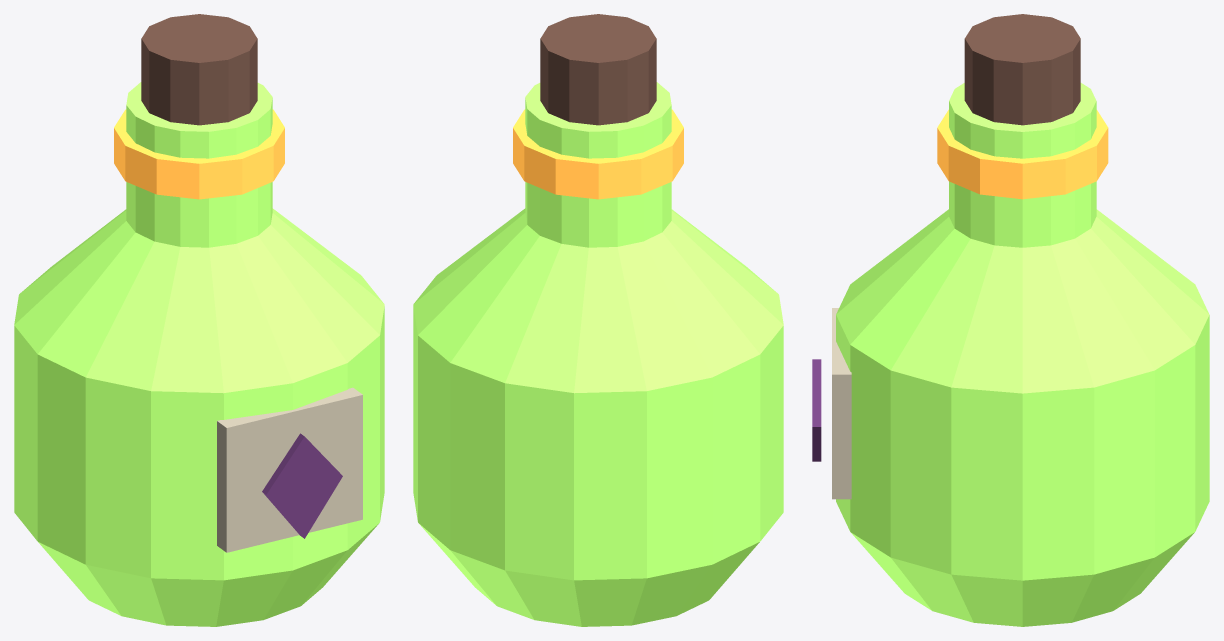
File: moonlit-mischief-potion-bottle-eb5b0b7d__2141.glb
3 views of the same model, side by side, from view 1: azimuth 30°, elevation 25°; view 2: azimuth 150°, elevation 25°; view 3: azimuth 270°, elevation 25° (orthographic).
Visible parts, largest first — view 1: potion-bottle; view 2: potion-bottle; view 3: potion-bottle.
Boxes of the visible parts, x1,y1,x2,y2 form: potion-bottle: [14, 14, 384, 626]; potion-bottle: [413, 14, 783, 626]; potion-bottle: [812, 14, 1209, 626].
Size of the model in its own units: 0.38 by 0.6 by 0.404.
